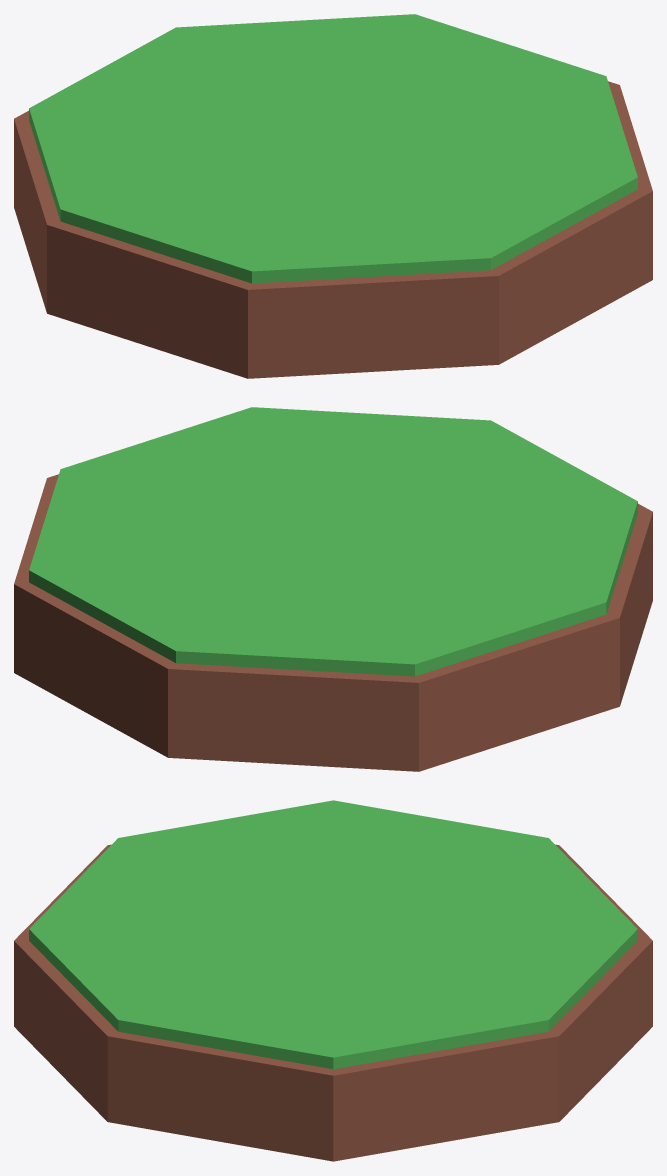
The model's file is arena_20-col.glb.
3 views of the same model, one above another, from view 1: azimuth 30°, elevation 25°; view 2: azimuth 150°, elevation 25°; view 3: azimuth 270°, elevation 25° (orthographic). The views are drawn at different scales.
Visible parts, largest first — view 1: Arena20-Top-col, Arena20-col; view 2: Arena20-Top-col, Arena20-col; view 3: Arena20-Top-col, Arena20-col.
Boxes of the visible parts, left/top/right/bottom form: Arena20-Top-col: left=29, top=14, right=637, bottom=283; Arena20-col: left=14, top=81, right=652, bottom=378; Arena20-Top-col: left=29, top=407, right=637, bottom=676; Arena20-col: left=14, top=474, right=652, bottom=771; Arena20-Top-col: left=29, top=800, right=637, bottom=1069; Arena20-col: left=14, top=844, right=652, bottom=1161.
Size of the model in its own units: 20.23 by 3.41 by 20.23.
1 material, 1 textured.
